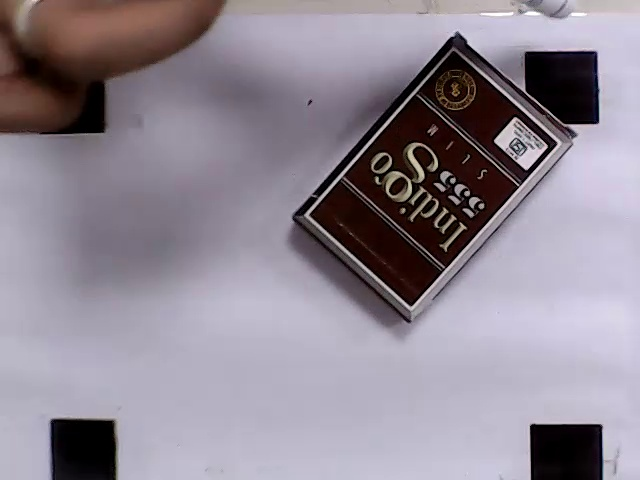BEX: (306, 48, 559, 309)
